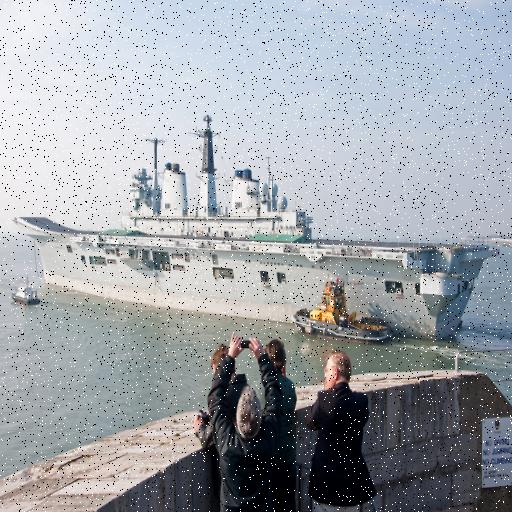Portanaves: (11, 110, 500, 352)
